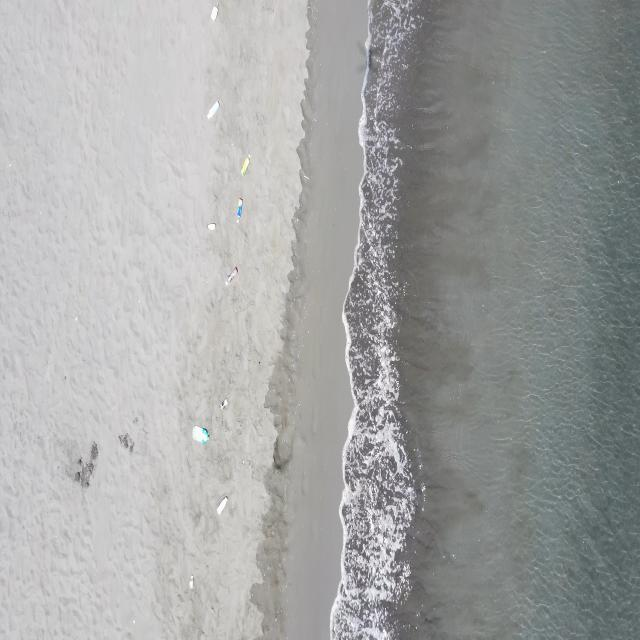plastic-bottle: (192, 424, 210, 445), (206, 100, 220, 121), (224, 267, 238, 287), (216, 494, 229, 515), (240, 153, 251, 177), (235, 198, 244, 224), (211, 1, 219, 22), (188, 574, 196, 591), (220, 396, 228, 412), (206, 221, 217, 232)
